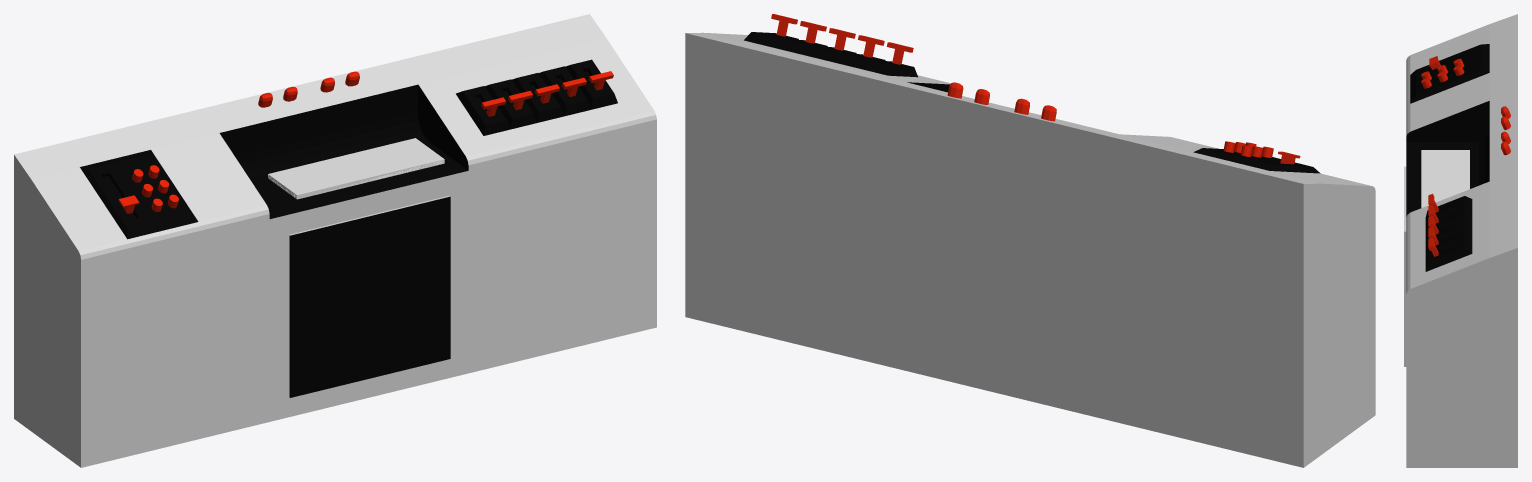
File: Console.fbx
3 views of the same model, side by side, from view 1: azimuth 30°, elevation 25°; view 2: azimuth 150°, elevation 25°; view 3: azimuth 270°, elevation 25° (orthographic). The views are drawn at different scales.
Parts seen in each view (by area): view 1: Cube, Cube.003; view 2: Cube; view 3: Cube, Cube.003.
Part boxes in pixels (x1,y1,x2,y2): Cube: (14,14,656,467); Cube.003: (268,138,444,199); Cube: (685,14,1375,467); Cube: (1404,14,1517,467); Cube.003: (1421,150,1469,207).
Bounding box in the file's own units: 149 × 66.89 × 30.57.
